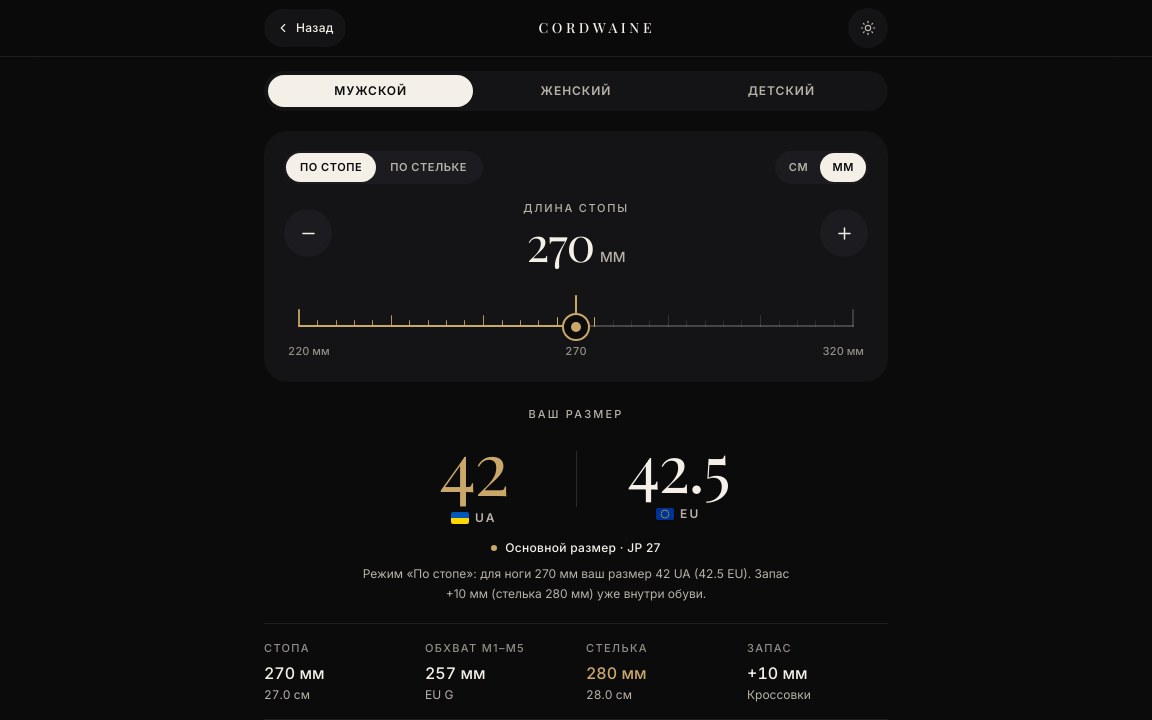
Scenario: SizeCalcPage — интеграционные тесты › поддерживает ручной ввод длины стопы и кнопки − / +
The width and height of the screenshot is (1152, 720).
Step 1. Click the text "270" below "Длина стопы" → (560, 242), box [526, 218, 594, 266]
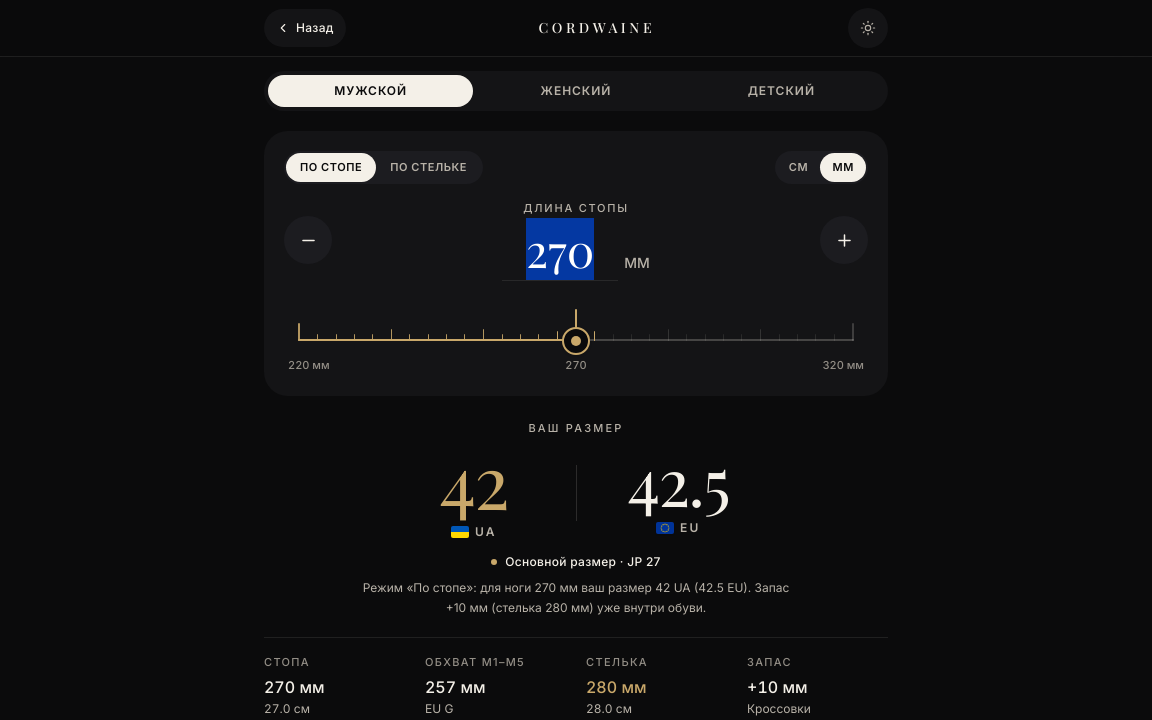
Step 2. Replace the text in the field with "280" → (560, 250), box [502, 218, 618, 281]
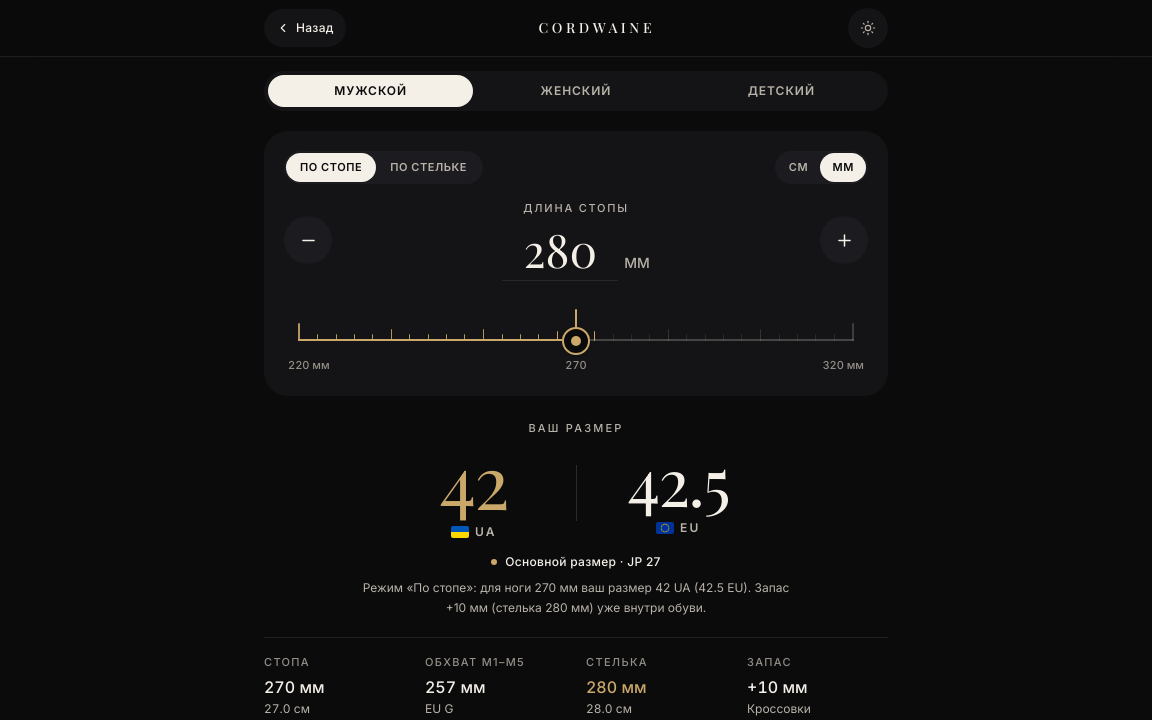
Step 3. Press Enter in the field, box [502, 218, 618, 281]
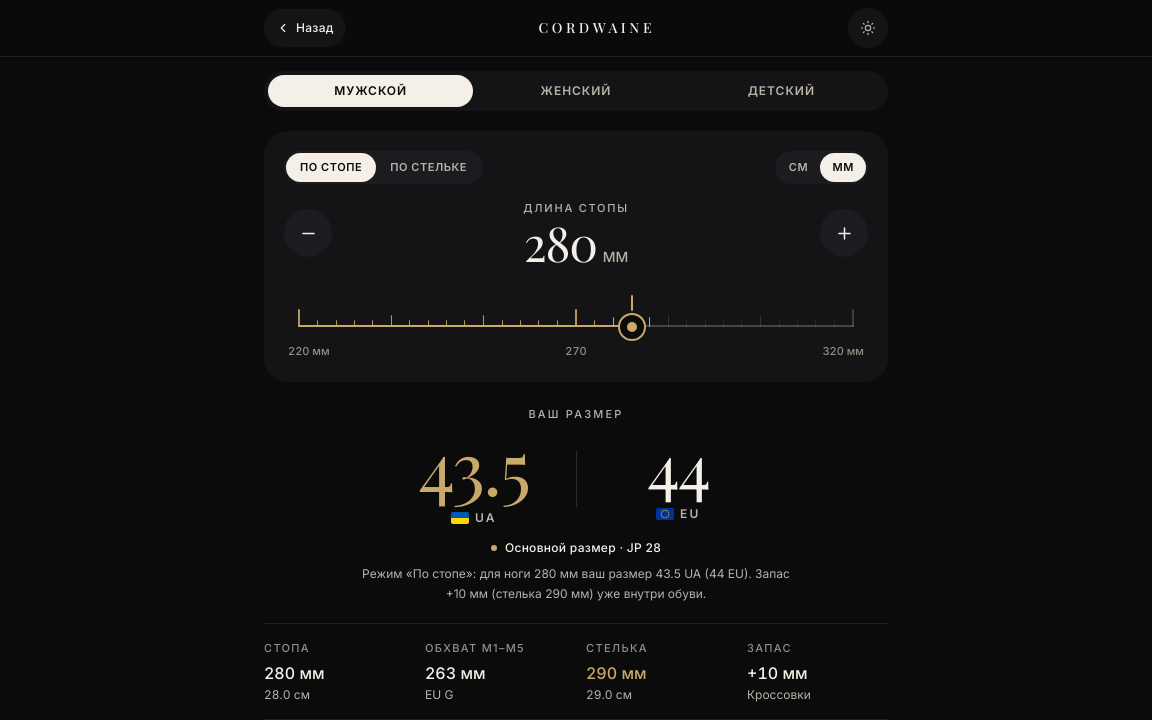
Check: the text "280" is shown, box [524, 218, 597, 266]
Check: the text "43.5" is shown, box [418, 432, 529, 500]
Check: the text "44" is shown, box [647, 436, 709, 496]
Step 4. Press the mouse on the button named "Increase" → (844, 233), box [820, 209, 868, 257]
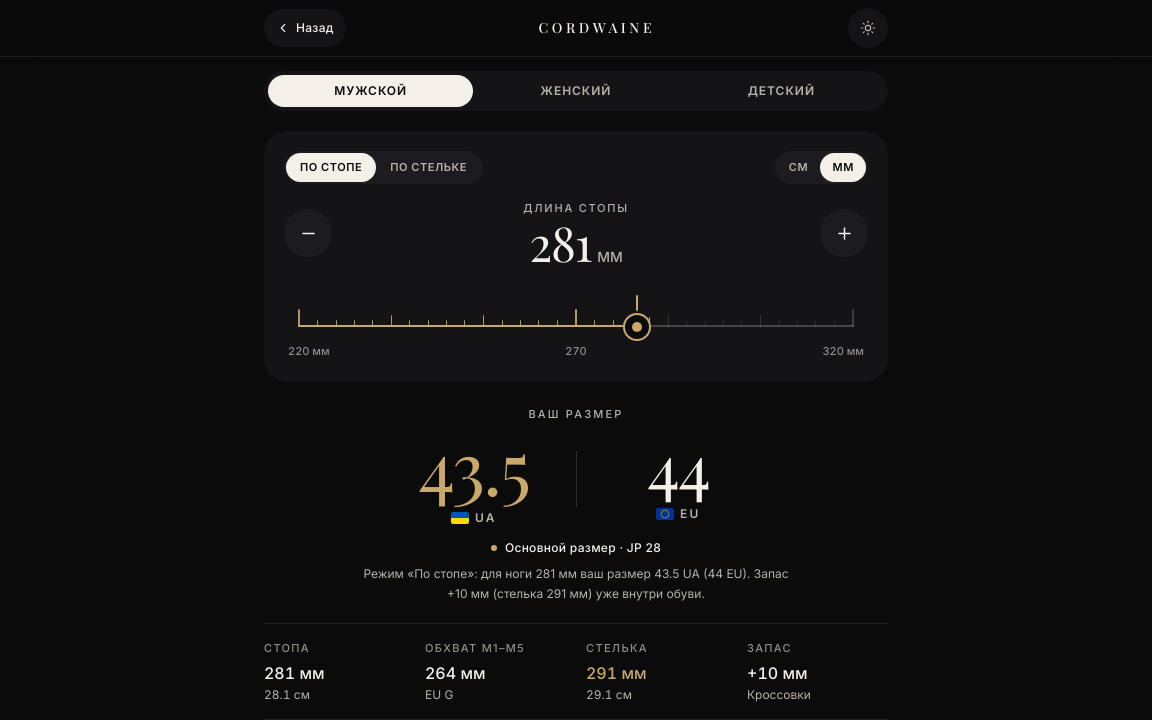
Check: the text "281" is shown, box [529, 218, 591, 266]
Step 5. Press the mouse on the button named "Decrease" → (308, 233), box [284, 209, 332, 257]
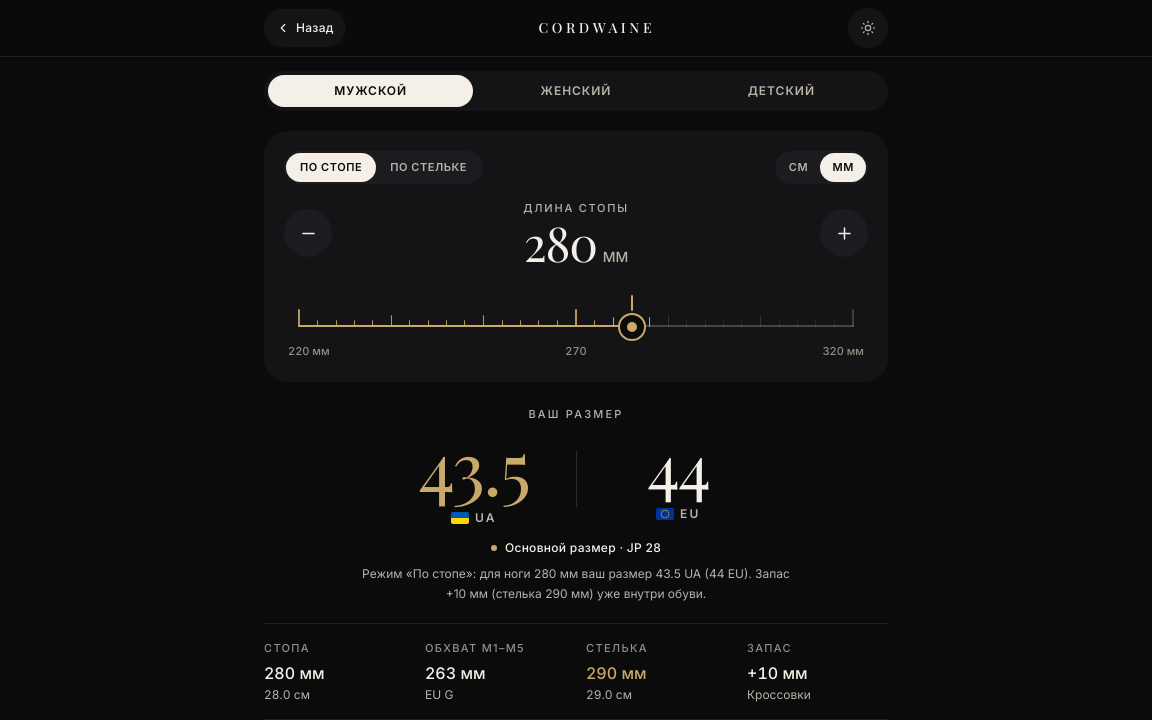
Check: the text "280" is shown, box [524, 218, 597, 266]
